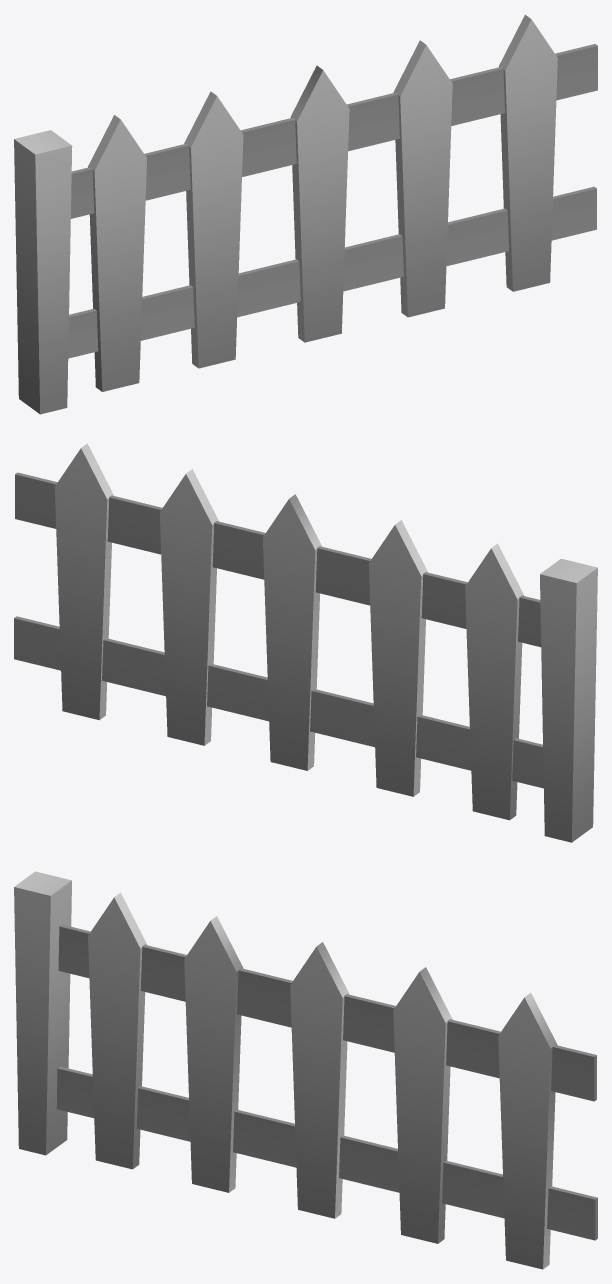
File: SM_Fence_1.FBX
The picture shows the model from 3 angles, top to bottom: view 1: azimuth 30°, elevation 25°; view 2: azimuth 150°, elevation 25°; view 3: azimuth 330°, elevation 25°; orthographic projection.
Visible parts, largest first — view 1: SM_Fence_1; view 2: SM_Fence_1; view 3: SM_Fence_1.
Boxes of the visible parts, x1,y1,x2,y2 form: SM_Fence_1: [14, 14, 597, 414]; SM_Fence_1: [14, 443, 597, 842]; SM_Fence_1: [14, 871, 597, 1269].
Size of what is drawn, in the model's own units: 310 by 20 by 139.
